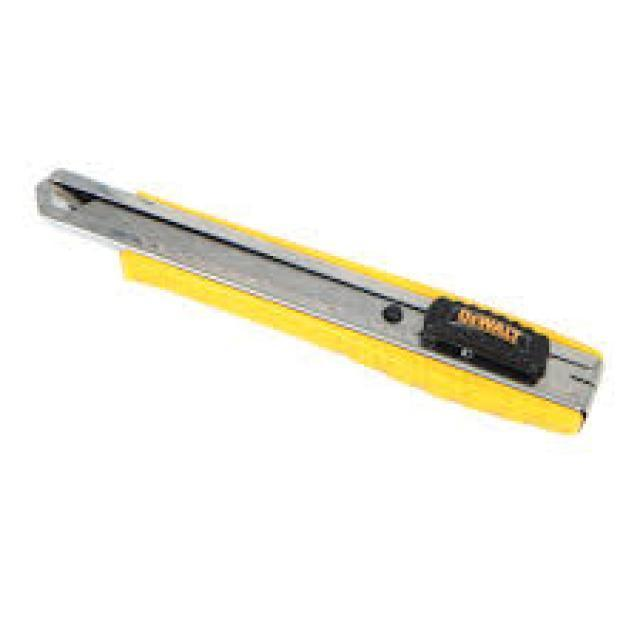cutter: (24, 148, 612, 452)
